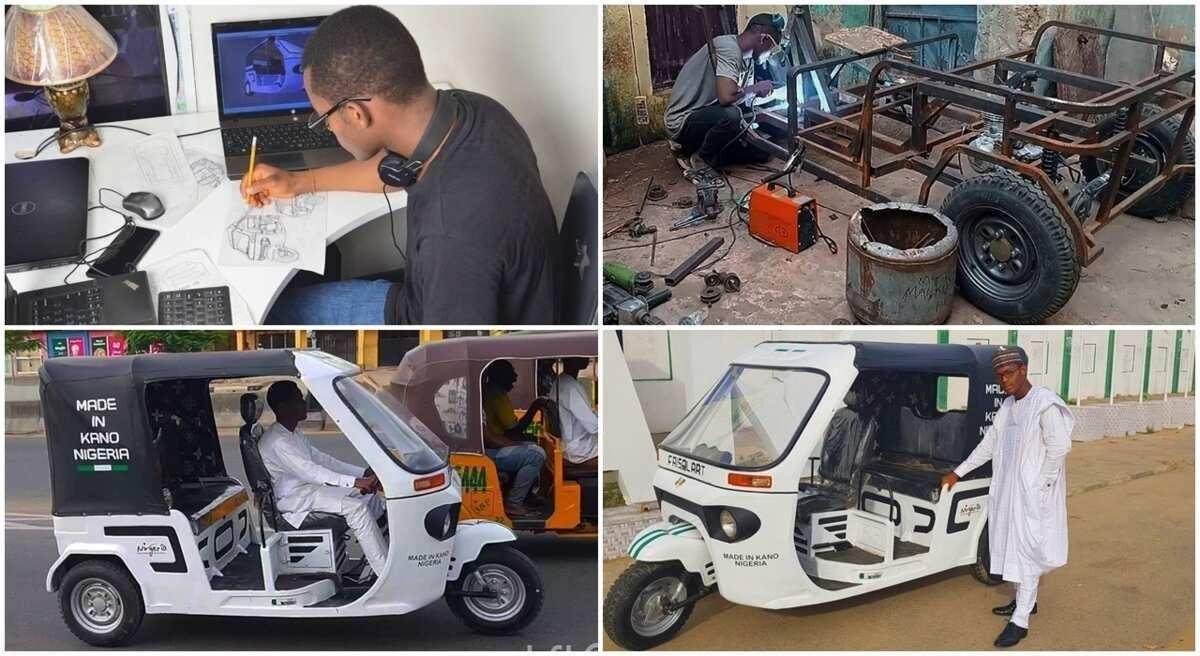keke: (36, 341, 540, 654), (609, 340, 1043, 654), (768, 5, 1182, 324)
